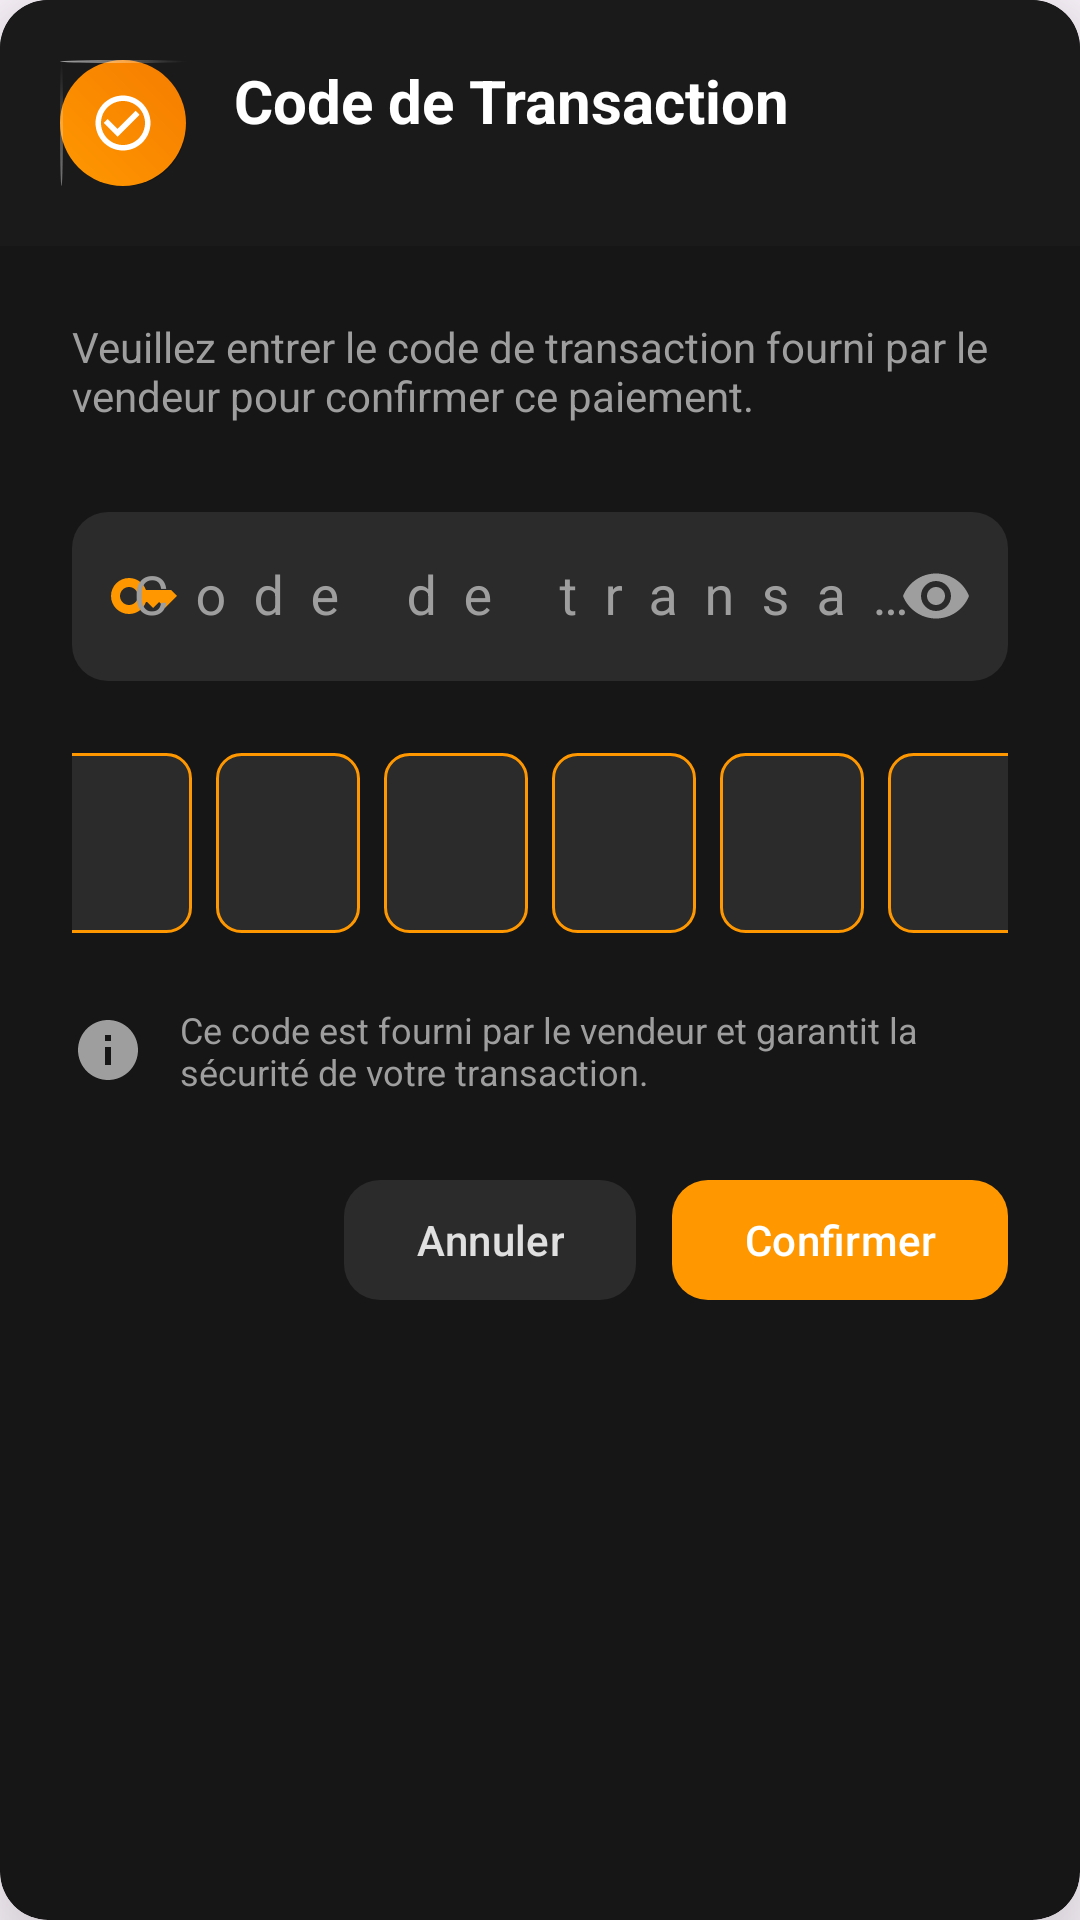

Screen size 1080 x 1920. Icon name, then its box in pixels as (x1, y1, x2, y2):
Information: (78, 1020, 138, 1080)
